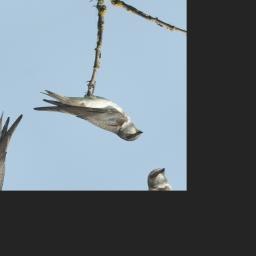Swallow: (27, 61, 146, 173)
